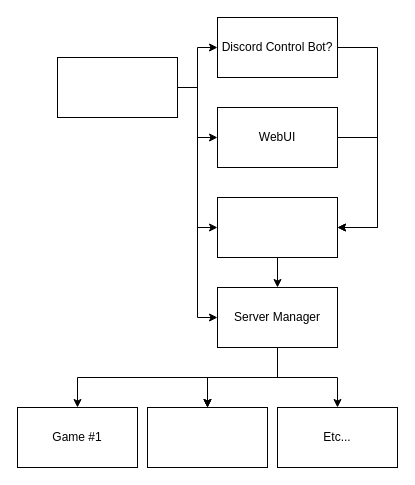
The diagram is 415 pixels wide and 485 high, and some of its shapes have lost their labels. Here are the shapes that lost their labels. From the top down, the centre of each, then its label:
At point (117, 87): "Java Spring".
At point (277, 227): "API".
At point (207, 437): "Game #2".
